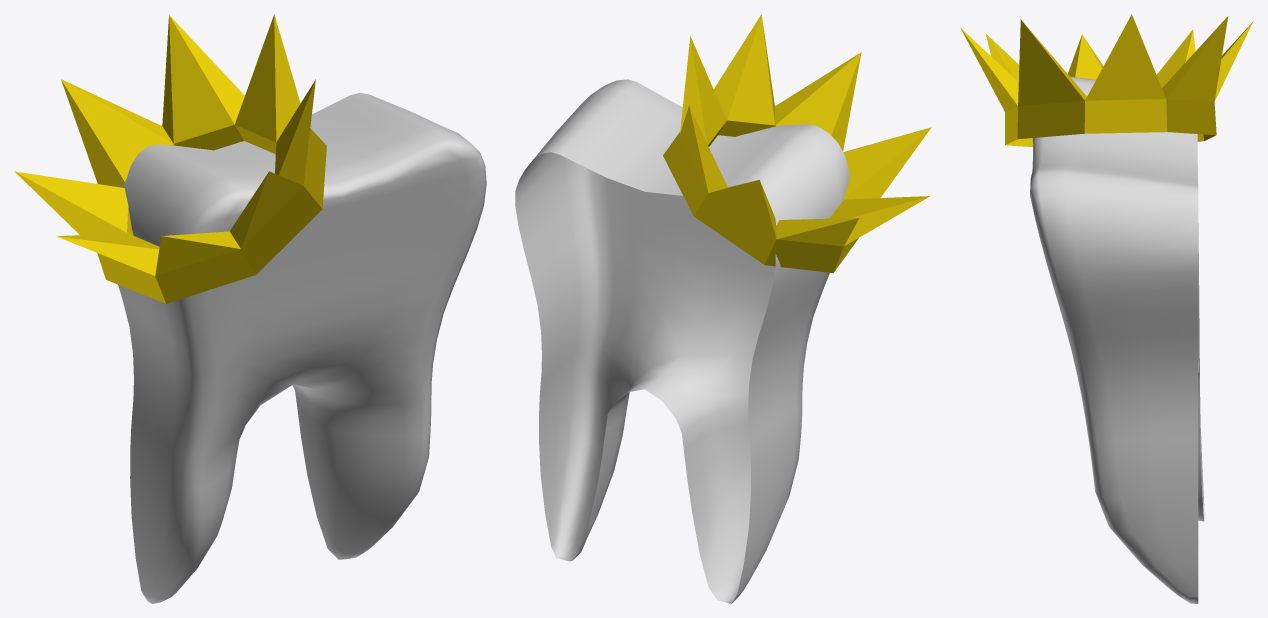
Rendered from tooth 2nd.fbx.
The picture shows the model from 3 angles, left to right: view 1: azimuth 30°, elevation 25°; view 2: azimuth 150°, elevation 25°; view 3: azimuth 270°, elevation 25°; orthographic projection. The views are drawn at different scales.
Parts seen in each view (by area): view 1: polySurface6; view 2: polySurface6; view 3: polySurface6.
Part boxes in pixels (x1=…): polySurface6: x1=14, y1=14, x2=486, y2=603; polySurface6: x1=515, y1=14, x2=931, y2=603; polySurface6: x1=960, y1=14, x2=1253, y2=603.
Size of the model in its own units: 1.68 by 2.29 by 1.13.
